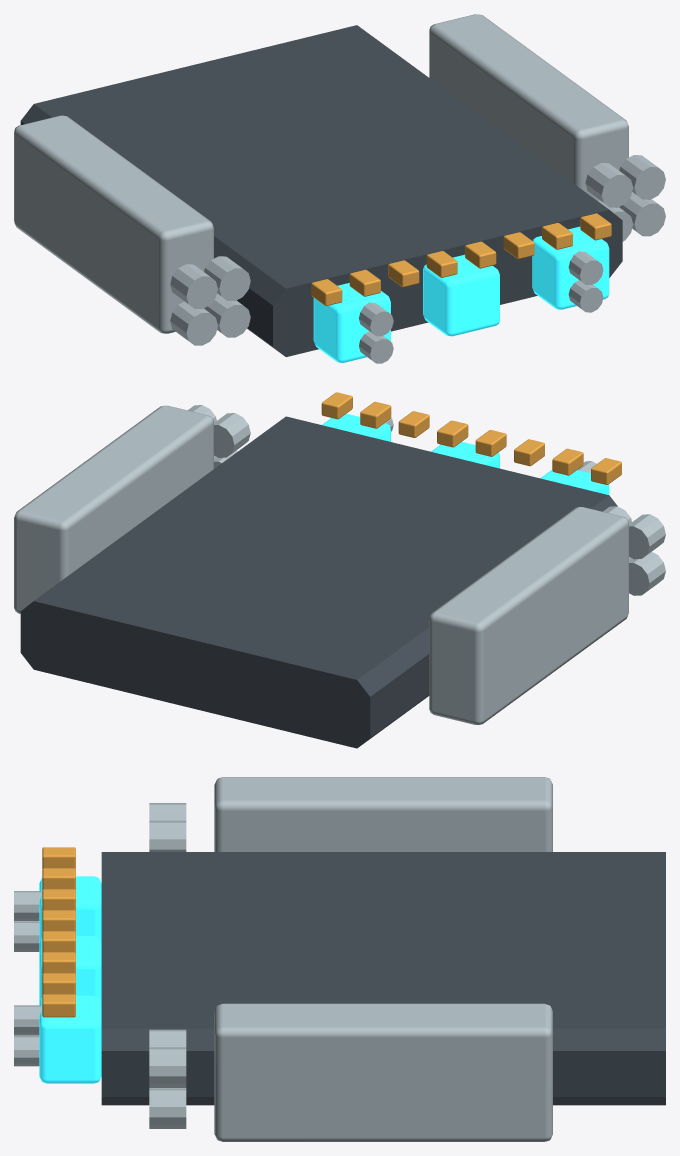
Rendered from data-centre-infiltration-kit-data-centre-infiltration--43cafea0__29249.glb.
The picture shows the model from 3 angles, top to bottom: view 1: azimuth 30°, elevation 25°; view 2: azimuth 150°, elevation 25°; view 3: azimuth 270°, elevation 25°; orthographic projection. The views are drawn at different scales.
Visible parts, largest first — view 1: data-centre-infiltration-kit-fiber-cassette; view 2: data-centre-infiltration-kit-fiber-cassette; view 3: data-centre-infiltration-kit-fiber-cassette.
Boxes of the visible parts, x1=… form: data-centre-infiltration-kit-fiber-cassette: x1=14, y1=14, x2=665, y2=363; data-centre-infiltration-kit-fiber-cassette: x1=14, y1=392, x2=665, y2=748; data-centre-infiltration-kit-fiber-cassette: x1=14, y1=777, x2=665, y2=1141.
Bounding box in the file's own units: 0.2194 × 0.045 × 0.231.
